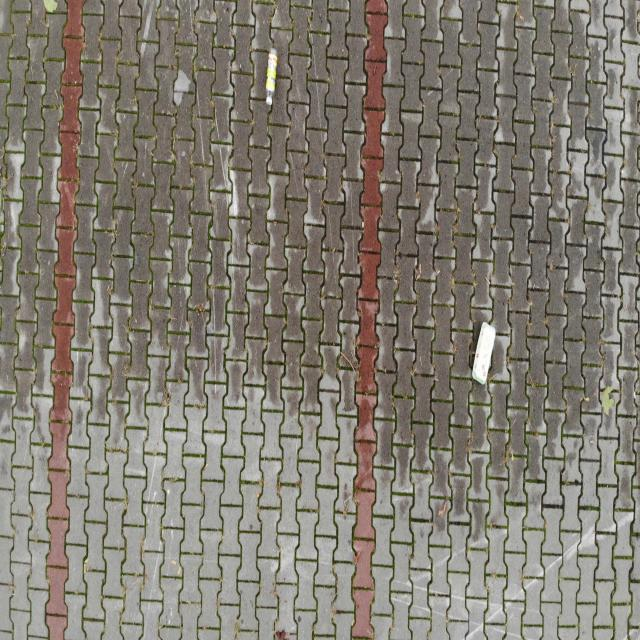rubbish: (471, 321, 496, 385), (265, 47, 279, 106)
